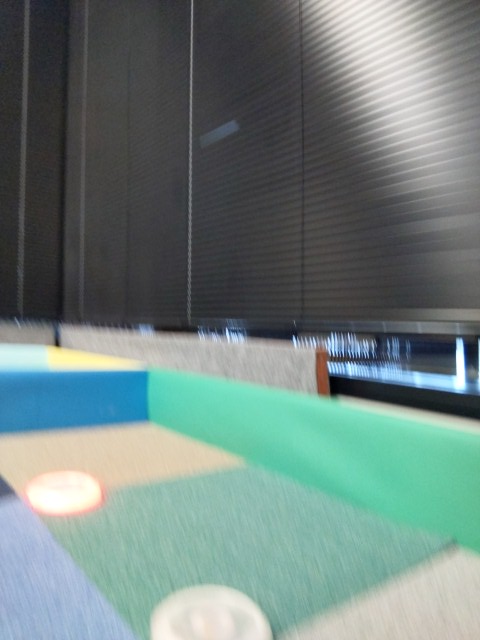o: (144, 582, 273, 640)
r: (24, 469, 107, 515)
